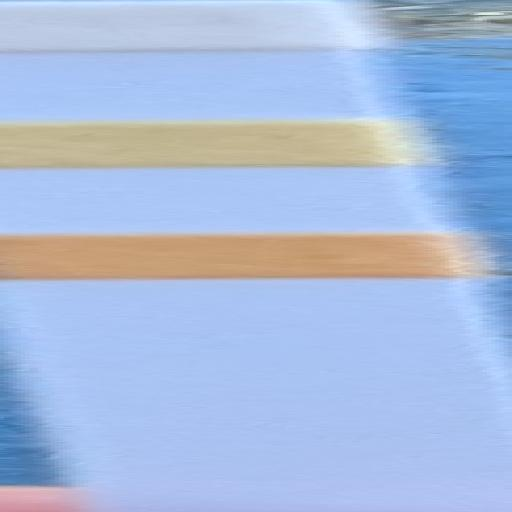pads: (0, 231, 474, 280), (0, 116, 432, 167), (0, 0, 397, 53)
